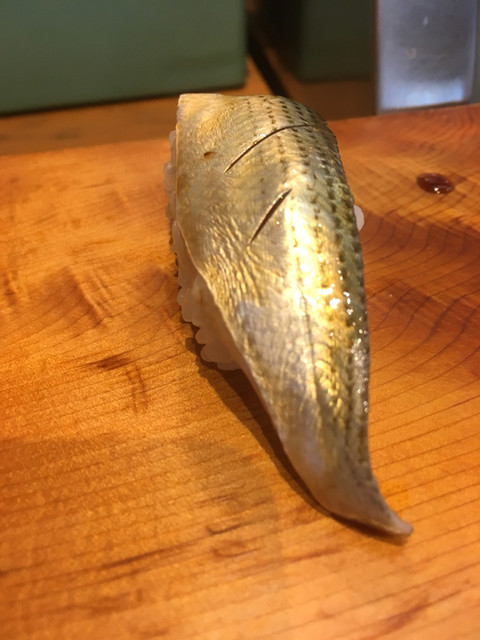spotted-shad: (163, 91, 417, 545)
